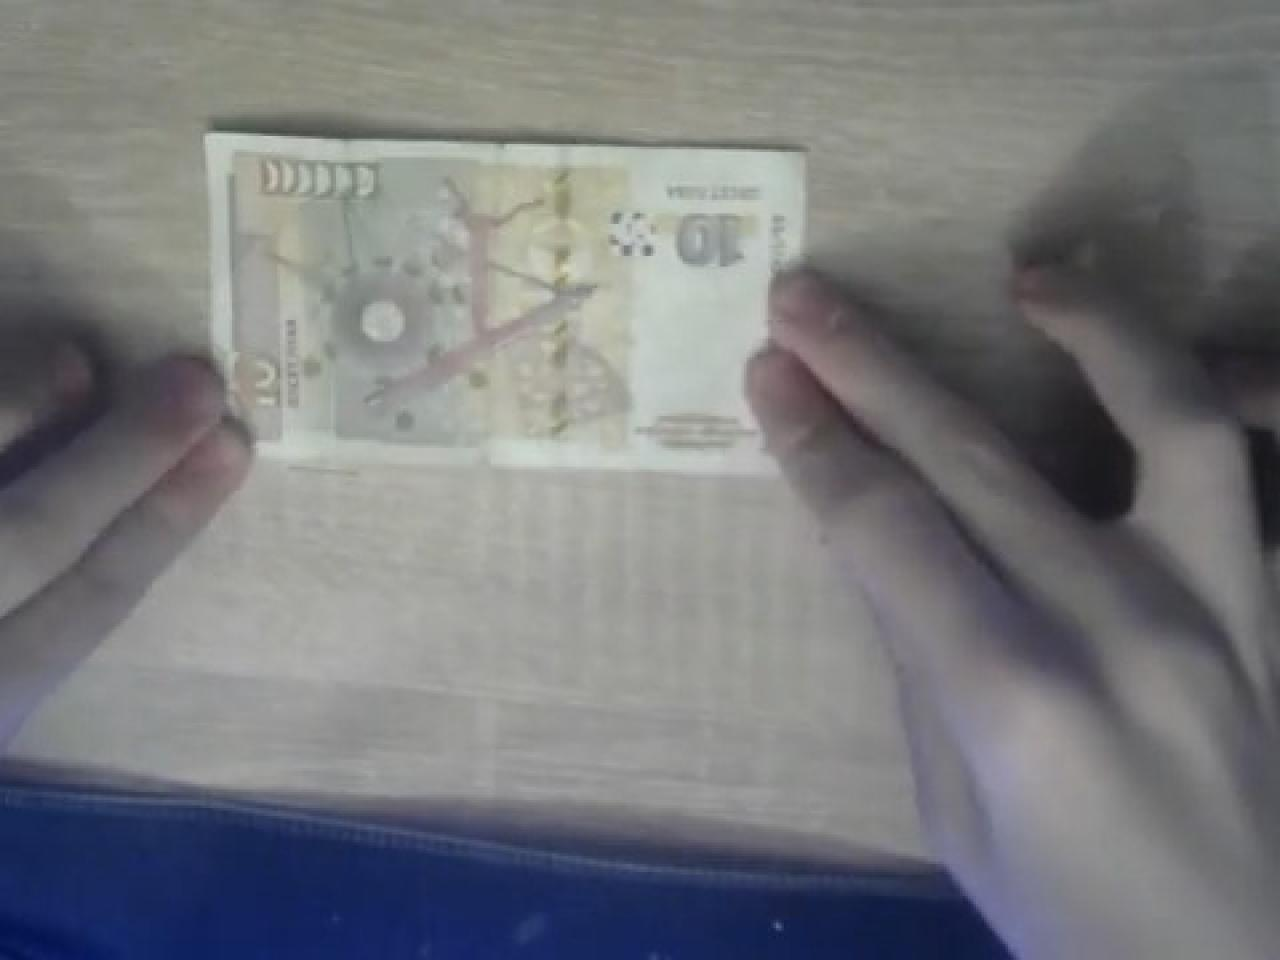10leva: (203, 120, 808, 475)
